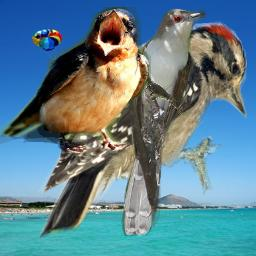Cuckoo: (121, 6, 207, 236), (138, 77, 183, 116)
Swallow: (0, 7, 151, 153)
Woodpecker: (21, 20, 247, 246)
